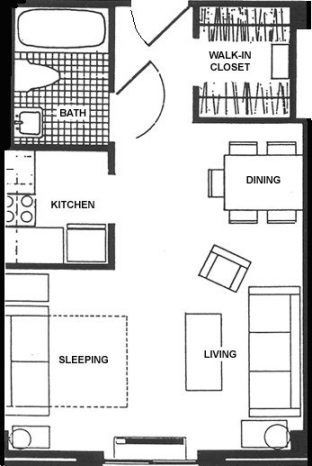room: (2, 261, 308, 466), (1, 141, 120, 276)
wall: (1, 2, 19, 152), (100, 1, 124, 102), (193, 445, 300, 466), (299, 119, 312, 263), (190, 112, 312, 127), (9, 257, 115, 273), (10, 448, 101, 466), (11, 142, 115, 156), (189, 79, 205, 122)
window: (103, 447, 196, 466)
